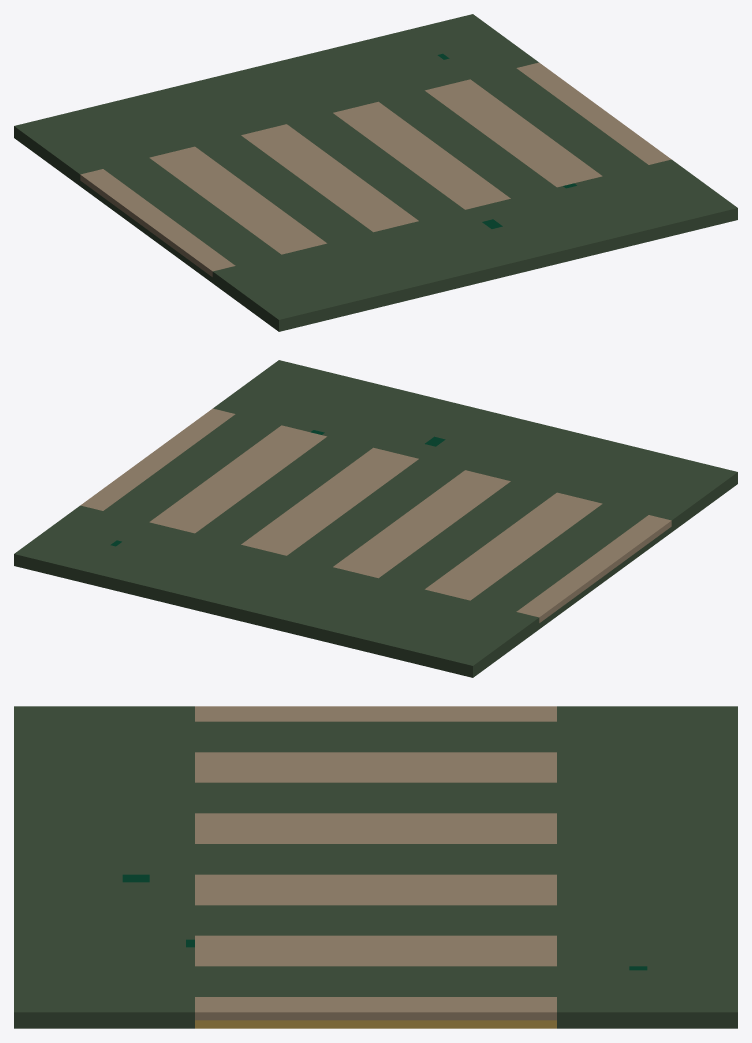
File: crossing-a.obj
3 views of the same model, one above another, from view 1: azimuth 30°, elevation 25°; view 2: azimuth 150°, elevation 25°; view 3: azimuth 270°, elevation 25° (orthographic). The views are drawn at different scales.
Parts seen in each view (by area): view 1: Crossing; view 2: Crossing; view 3: Crossing.
Part boxes in pixels (bbox=[...]): Crossing: bbox=[14, 14, 737, 331]; Crossing: bbox=[14, 360, 737, 677]; Crossing: bbox=[14, 706, 737, 1028].
Size of the model in its own units: 1.6 by 0.04 by 1.6.
1 material, 1 textured.
